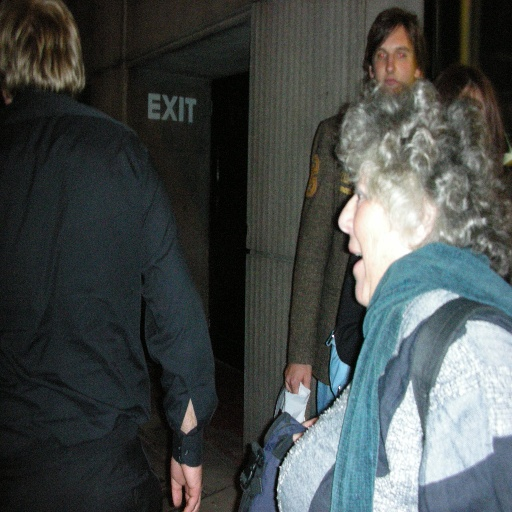hand: (169, 430, 204, 511), (285, 362, 329, 416)
